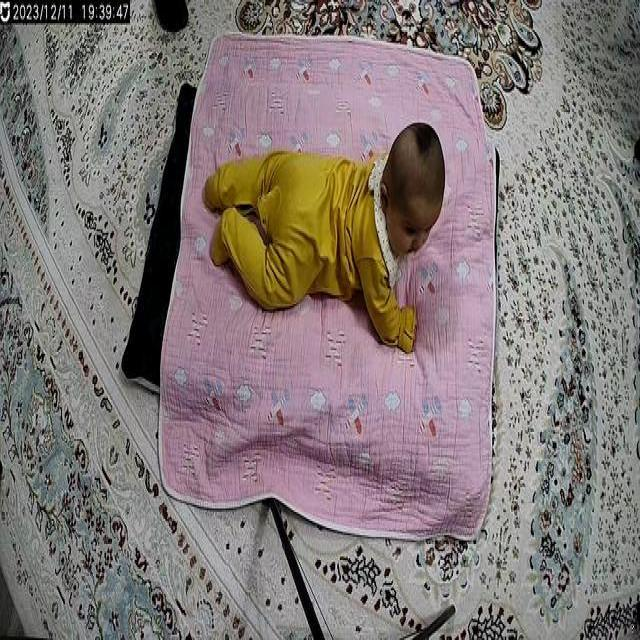baby: (200, 104, 454, 370)
